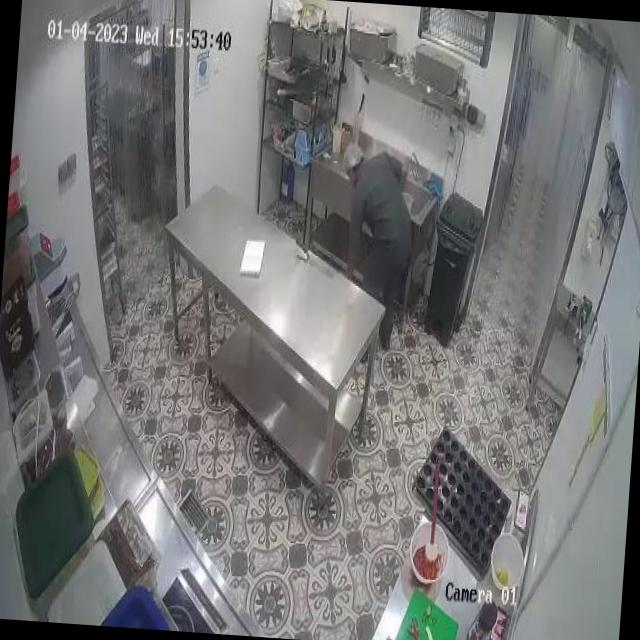hairnet: (340, 138, 362, 170)
